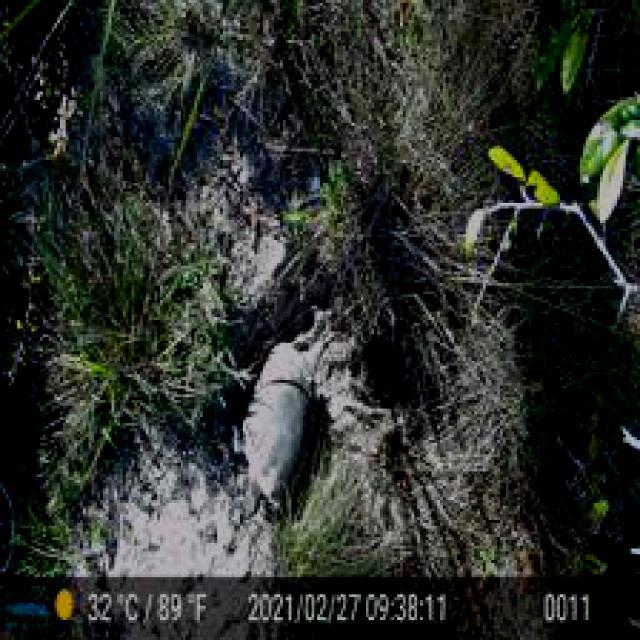tortoise: (226, 334, 323, 528)
